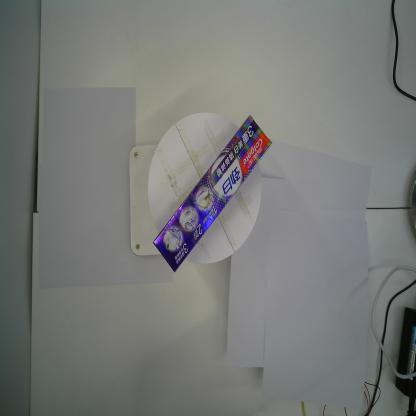Personal Hygiene: (152, 111, 272, 274)
